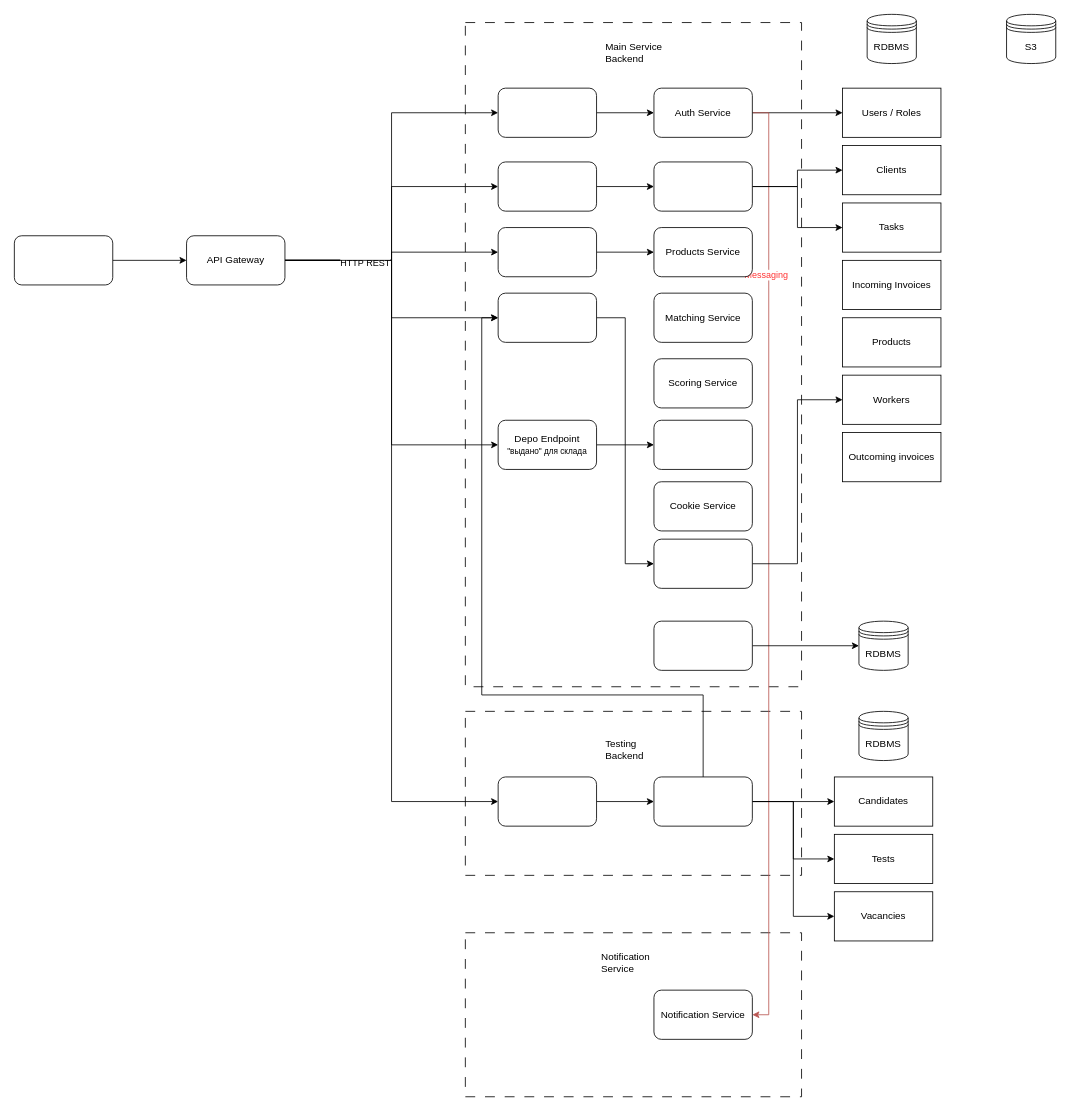
Image size: 1070x1111. Some labels were removed from this diagram. The centre of each missing label's shape, as x and y in pixels:
Auth Endpoints: the point at 547,112
Depo Service: the point at 702,444
frontend: the point at 63,260
Products Endpoints создать услуги, редактировать услуги: the point at 547,252
Task Scheduler (ex.Hangfire): the point at 702,645
Task Service: the point at 702,186
Tasks Endpoints создать заявку, просмотреть заявки: the point at 547,186
Testing Endpoints выбрать тесты для кандидата, вакансии: the point at 547,801
Testing Service: the point at 702,801
Worker Endpoints создать работника из кандидата: the point at 547,317
Worker Service: the point at 702,563
